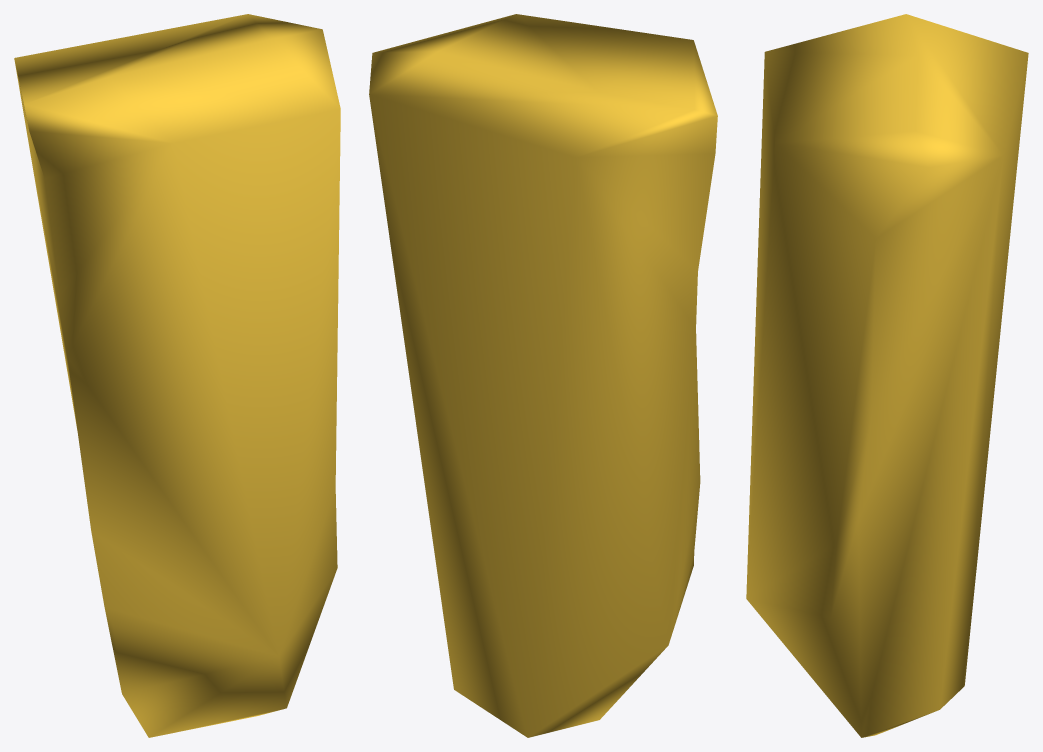
File: Kiichan_leg_r.obj
The picture shows the model from 3 angles, left to right: view 1: azimuth 30°, elevation 25°; view 2: azimuth 150°, elevation 25°; view 3: azimuth 270°, elevation 25°; orthographic projection. The views are drawn at different scales.
Parts seen in each view (by area): view 1: YELLOW_LEG_R; view 2: YELLOW_LEG_R; view 3: YELLOW_LEG_R.
Part boxes in pixels (x1,y1,x2,y2): YELLOW_LEG_R: (14,14,340,737); YELLOW_LEG_R: (369,14,717,737); YELLOW_LEG_R: (746,14,1028,737).
Bounding box in the file's own units: 0.4056 × 0.7916 × 0.3263.
1 material, 1 textured.
